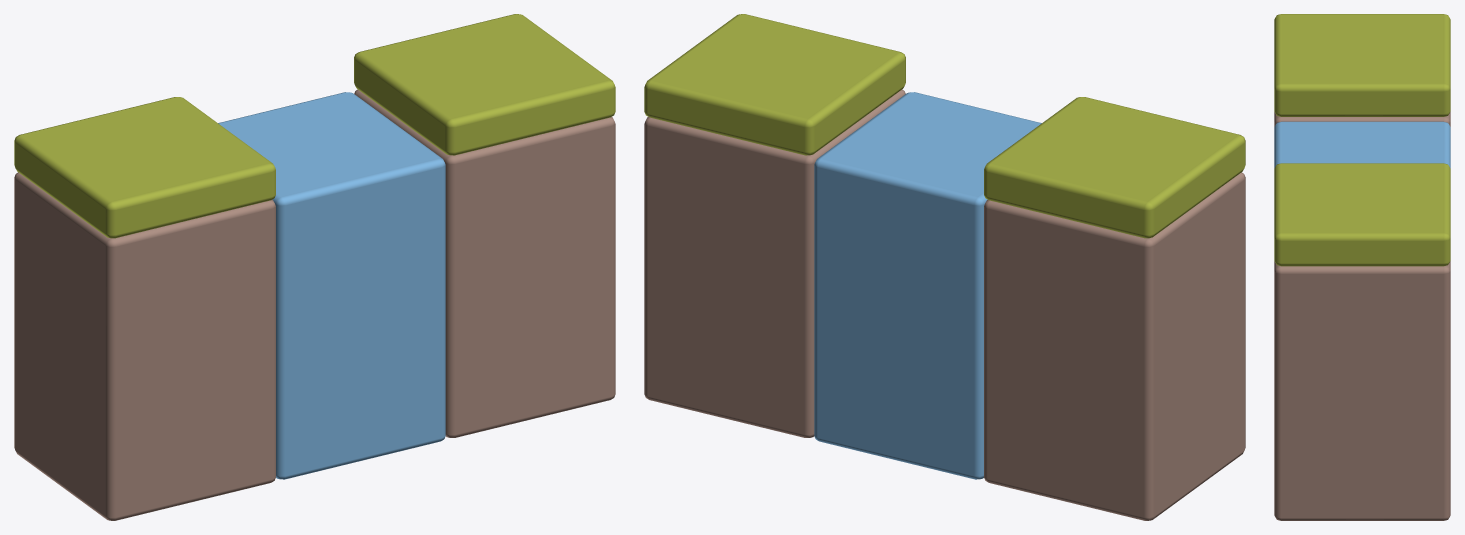
File: cube_with_river.09.glb
The picture shows the model from 3 angles, left to right: view 1: azimuth 30°, elevation 25°; view 2: azimuth 150°, elevation 25°; view 3: azimuth 270°, elevation 25°; orthographic projection. The views are drawn at different scales.
Visible parts, largest first — view 1: Cube.271; view 2: Cube.271; view 3: Cube.271.
Part boxes in pixels (bbox=[...]): Cube.271: bbox=[14, 14, 615, 520]; Cube.271: bbox=[644, 14, 1245, 520]; Cube.271: bbox=[1274, 14, 1450, 520].
Bounding box in the file's own units: 3 × 1.8 × 1.
1 material, 1 textured.
